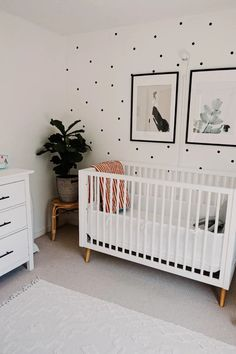crib: (79, 162, 235, 305)
